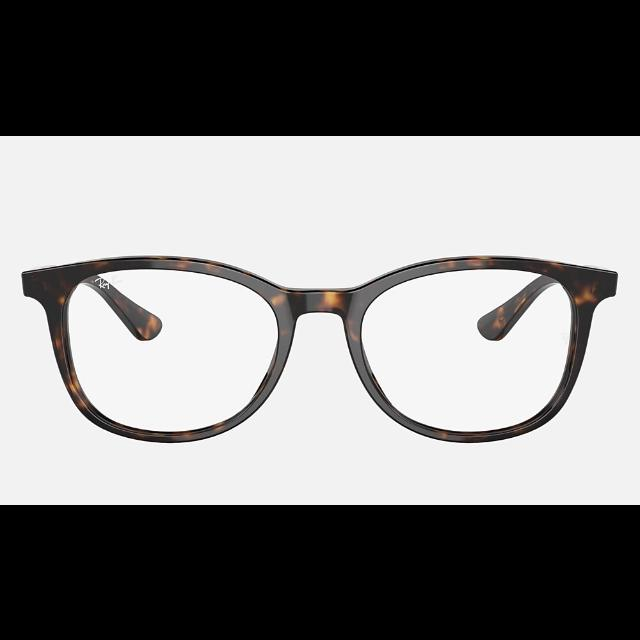glasses: (24, 254, 618, 442)
